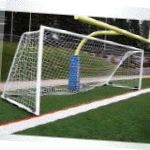goals: (2, 23, 145, 115)
